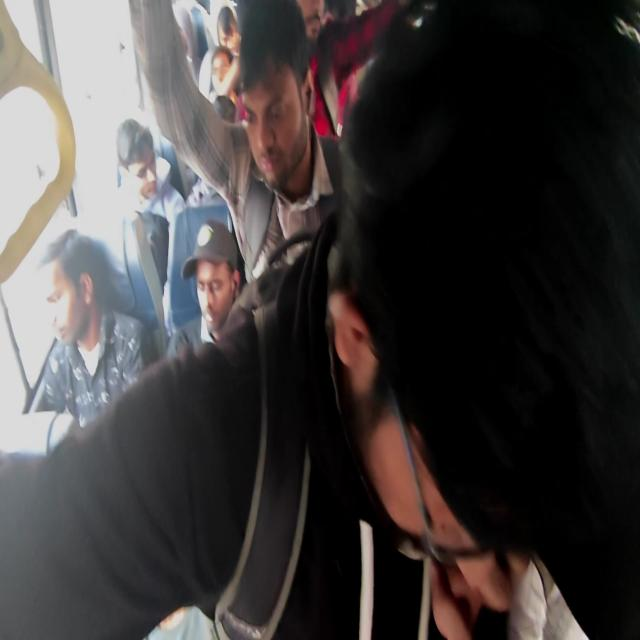person: (1, 1, 637, 638), (325, 0, 639, 638), (1, 213, 371, 639), (128, 0, 344, 283), (25, 228, 150, 430), (0, 0, 76, 285), (166, 218, 289, 361), (180, 218, 243, 345), (115, 117, 186, 226)
